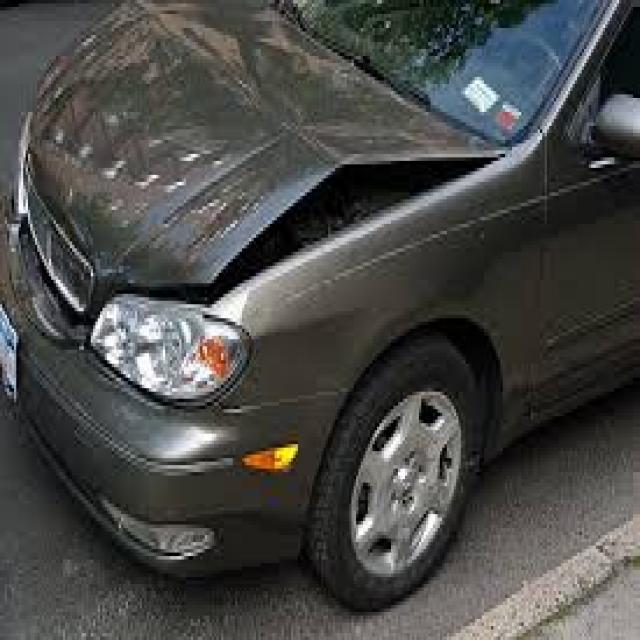minor: (0, 7, 606, 465)
